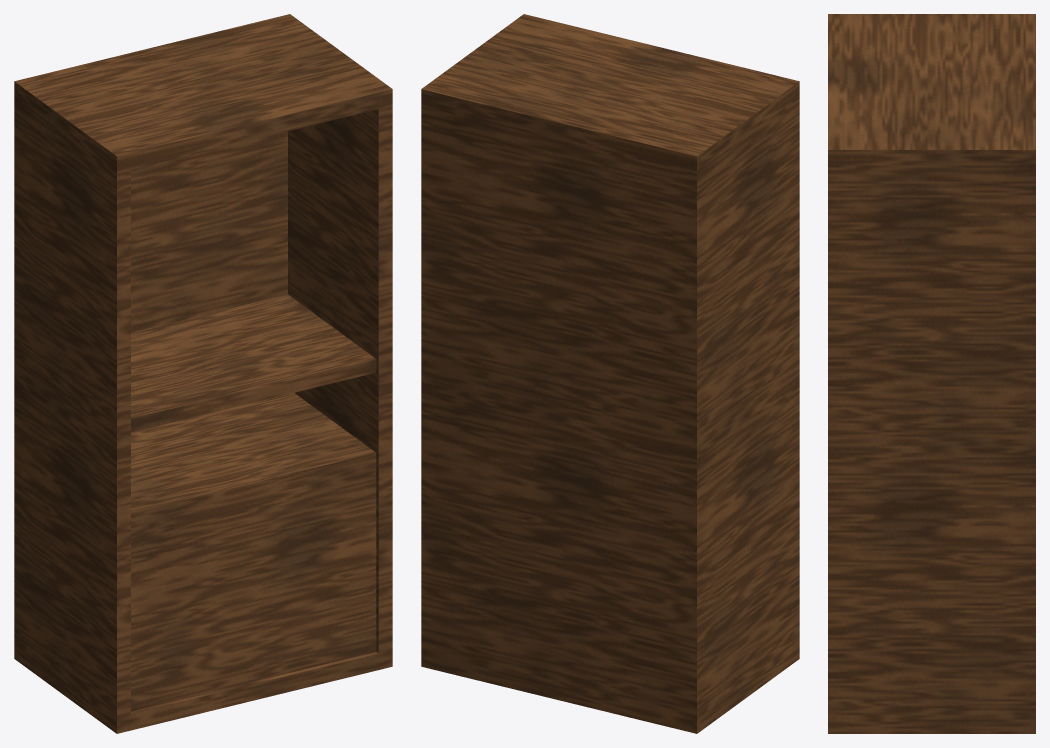
The model's file is Closet01Isolated.fbx.
The picture shows the model from 3 angles, left to right: view 1: azimuth 30°, elevation 25°; view 2: azimuth 150°, elevation 25°; view 3: azimuth 270°, elevation 25°; orthographic projection.
Parts seen in each view (by area): view 1: Closet01, ClosetShelf1, ClosetShelf; view 2: Closet01; view 3: Closet01.
Part boxes in pixels (<box>): Closet01: <box>14,14,392,733</box>; ClosetShelf1: <box>131,393,376,711</box>; ClosetShelf: <box>131,294,376,432</box>; Closet01: <box>421,14,799,733</box>; Closet01: <box>828,14,1035,733</box>.
Bounding box in the file's own units: 1 × 2 × 0.6449.
1 material, 1 textured.
